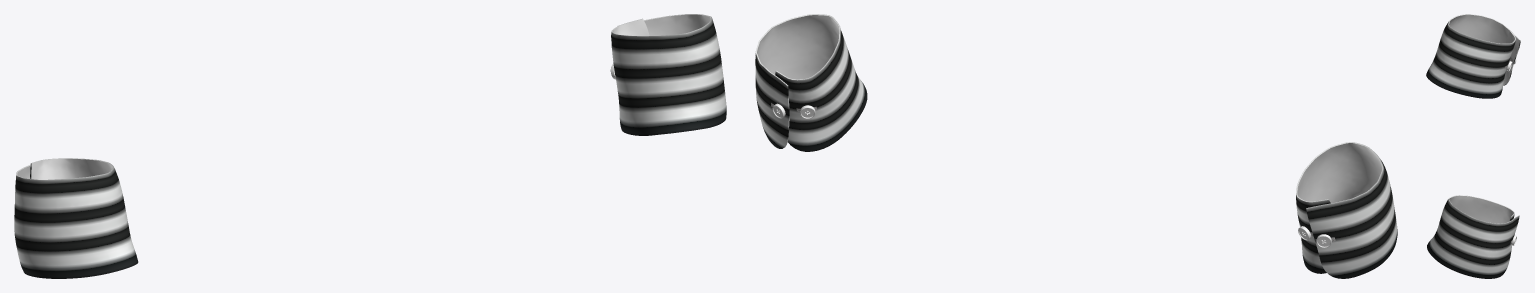
The model's file is Convertible_Cuff.glb.
3 views of the same model, side by side, from view 1: azimuth 30°, elevation 25°; view 2: azimuth 150°, elevation 25°; view 3: azimuth 270°, elevation 25° (orthographic). The views are drawn at different scales.
Parts seen in each view (by area): view 1: Pattern_2052443_Node, Pattern_2052444_Node; view 2: Pattern_2052444_Node, Pattern_2052443_Node; view 3: Pattern_2052443_Node, Pattern_2052444_Node.
Boxes of the visible parts, left/top/right/bottom form: Pattern_2052443_Node: left=14, top=158, right=138, bottom=278; Pattern_2052444_Node: left=611, top=14, right=726, bottom=135; Pattern_2052444_Node: left=755, top=14, right=867, bottom=151; Pattern_2052443_Node: left=1296, top=142, right=1397, bottom=278; Pattern_2052443_Node: left=1426, top=14, right=1520, bottom=98; Pattern_2052444_Node: left=1427, top=195, right=1519, bottom=278.
Bounding box in the file's own units: 60.26 × 9.94 × 11.71.
16 materials, 6 textured.
